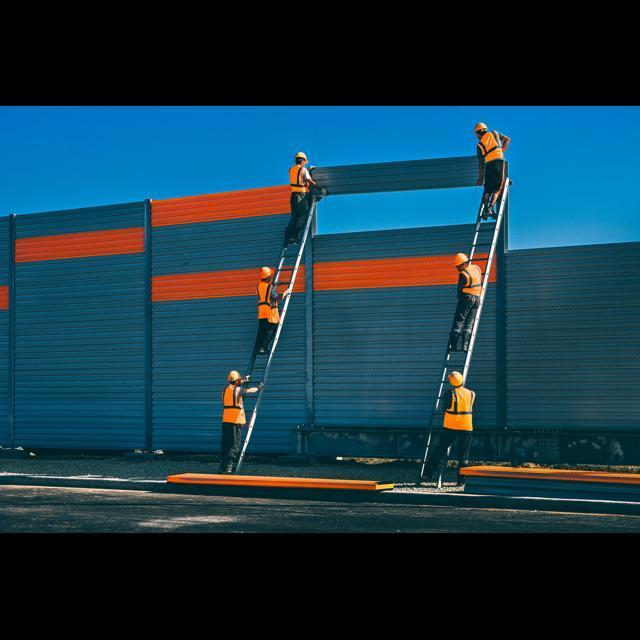Capacete: (448, 371, 462, 386), (455, 253, 468, 266), (259, 266, 272, 278), (474, 122, 487, 133), (228, 370, 240, 381), (295, 152, 307, 160)
Colete: (443, 386, 474, 430), (257, 281, 279, 323), (222, 385, 245, 423), (478, 131, 503, 162), (461, 264, 481, 295), (289, 164, 307, 192)
